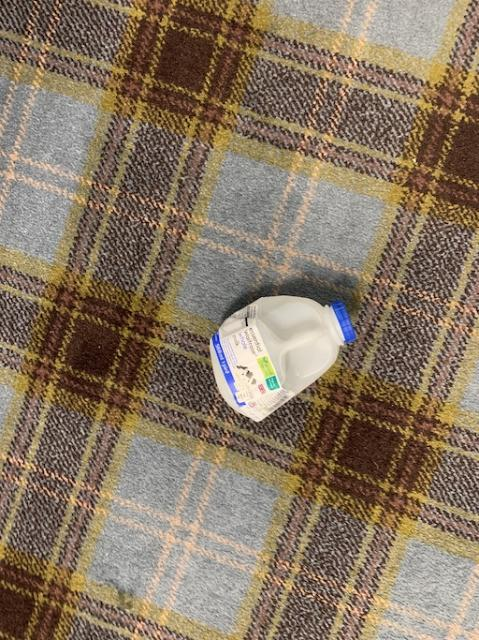plastic: (210, 295, 354, 420)
